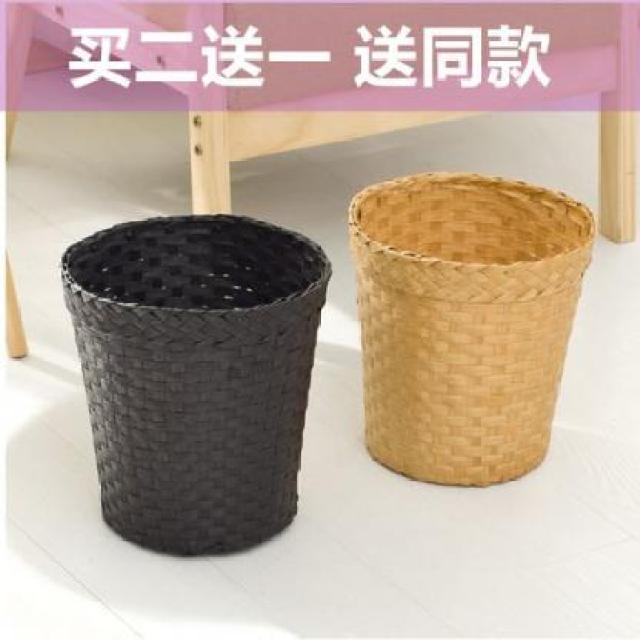dustbin: (56, 209, 334, 563), (345, 164, 599, 492)
